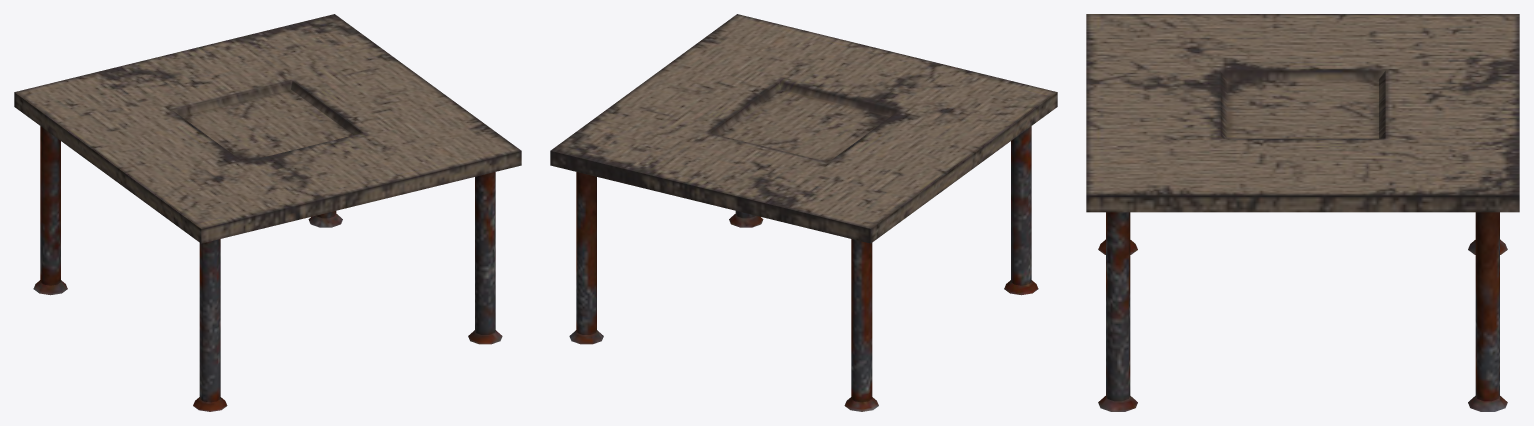
File: WaitingTable.FBX
3 renders of one model, left to right at view 1: azimuth 30°, elevation 25°; view 2: azimuth 150°, elevation 25°; view 3: azimuth 270°, elevation 25°, orthographic. The views are drawn at different scales.
Visible parts, largest first — view 1: WaitingTable; view 2: WaitingTable; view 3: WaitingTable.
Part boxes in pixels (box(x1,y1,x2,y2)): WaitingTable: box(14, 14, 521, 411); WaitingTable: box(550, 14, 1057, 411); WaitingTable: box(1086, 14, 1519, 411).
Size of the model in its own units: 86.42 by 49.26 by 87.31.
